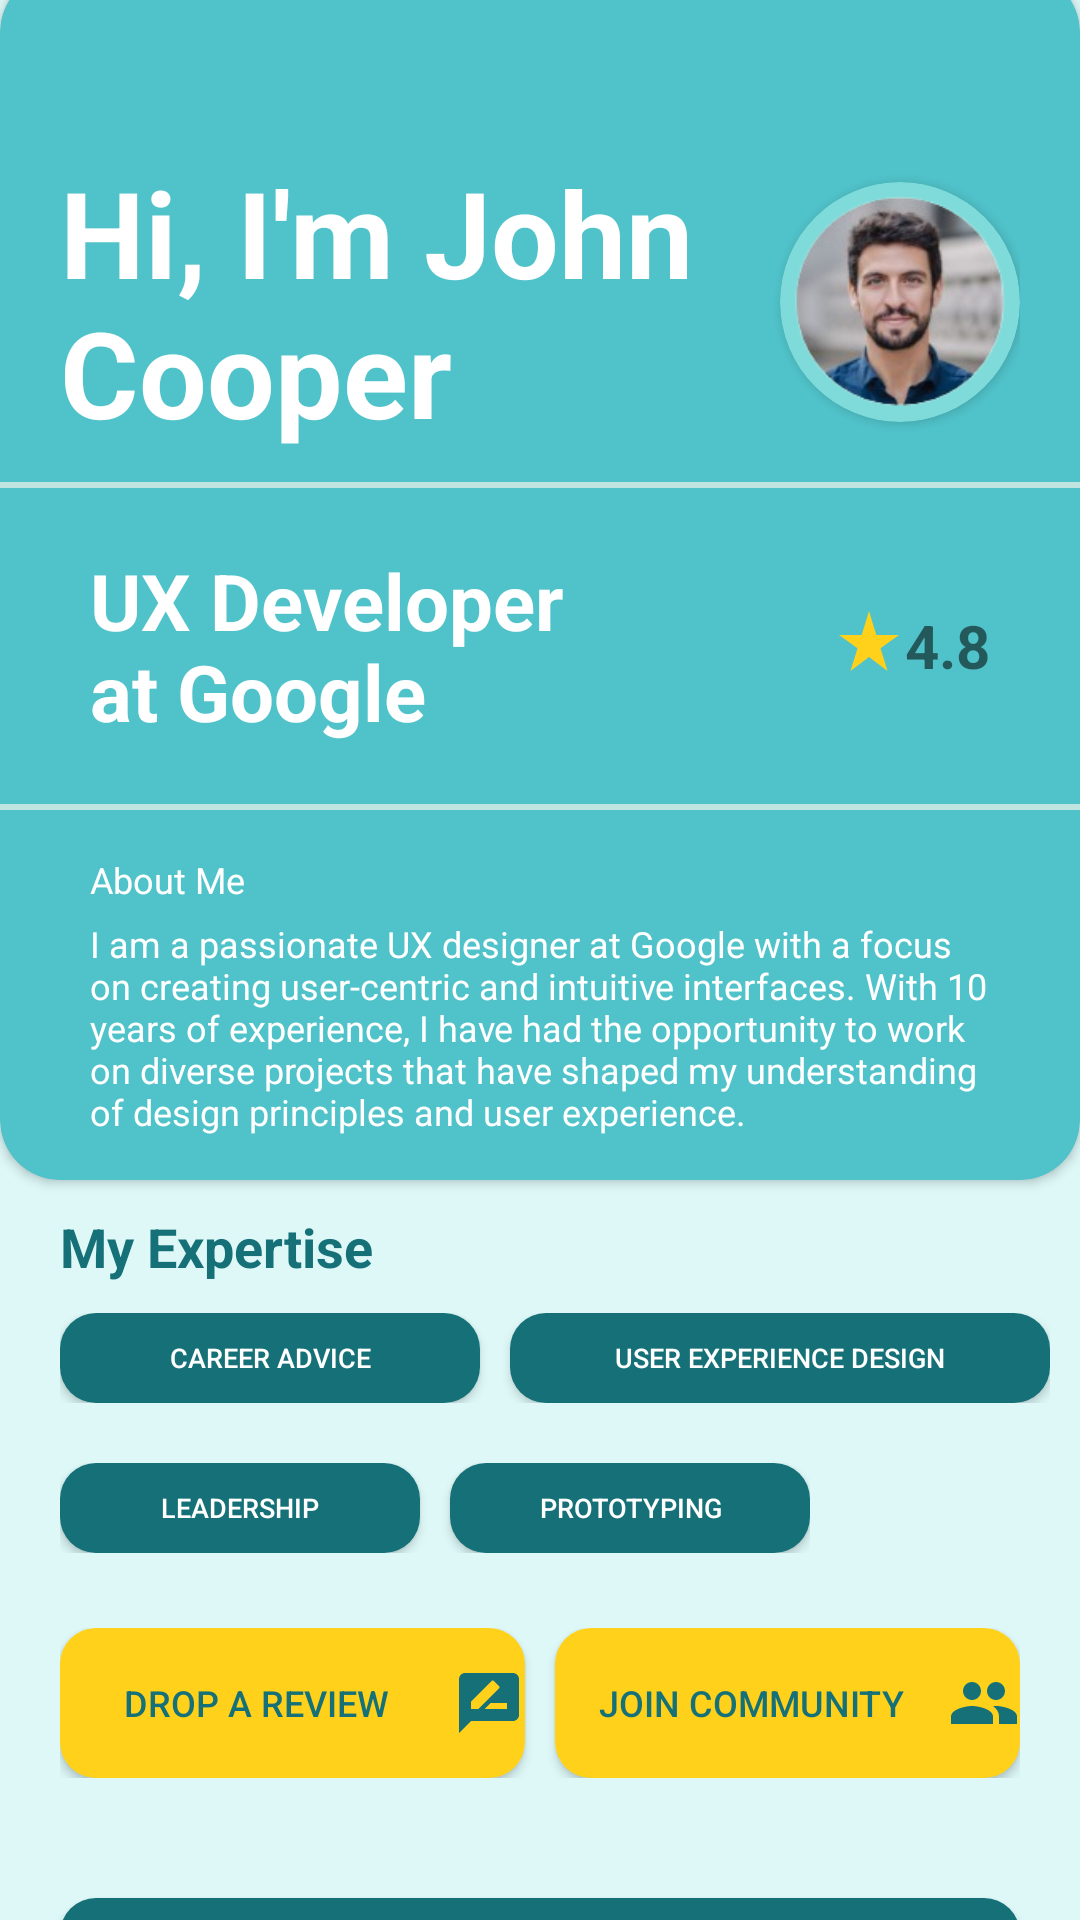

Screen size 1080x1920. Icon name, then its box in pixels as (x1, y1, x2, y2):
star rate: (839, 611, 899, 671)
